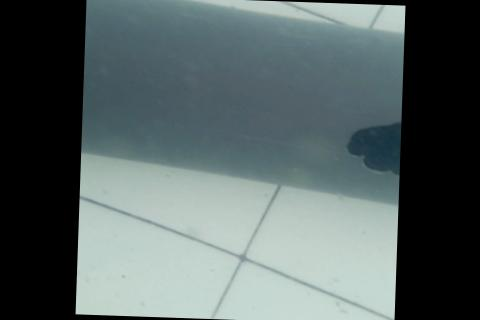kebocoran: (343, 116, 401, 178)
